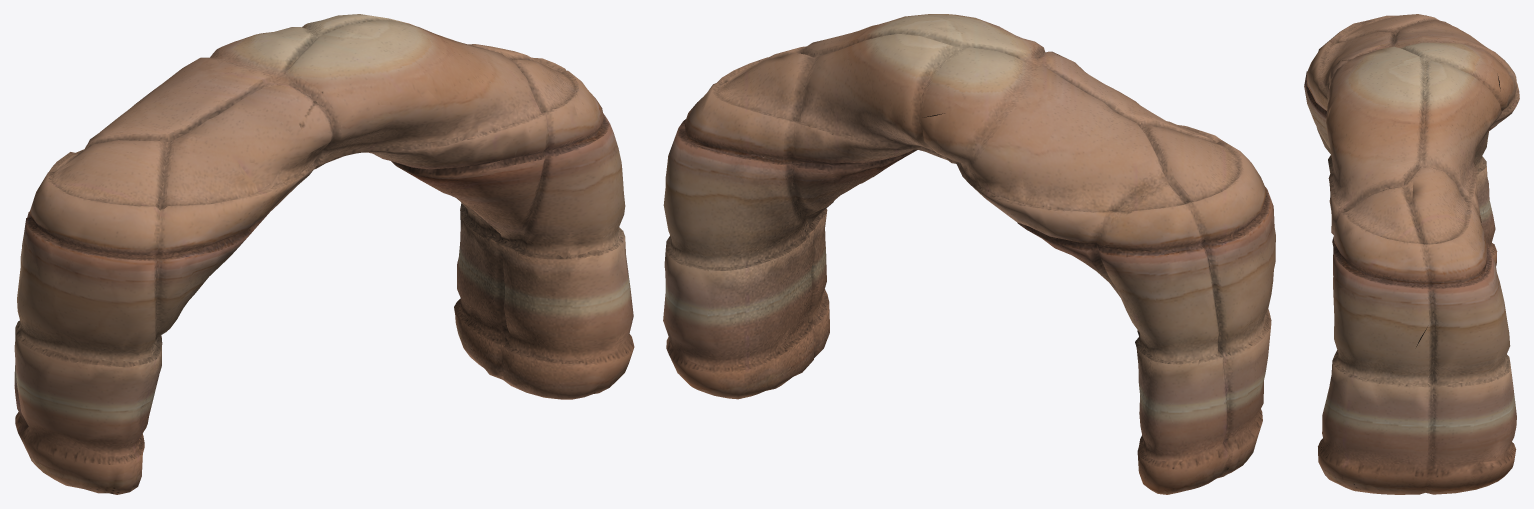
Rendered from arch.glb.
The picture shows the model from 3 angles, left to right: view 1: azimuth 30°, elevation 25°; view 2: azimuth 150°, elevation 25°; view 3: azimuth 270°, elevation 25°; orthographic projection. The views are drawn at different scales.
Parts seen in each view (by area): view 1: arch_game; view 2: arch_game; view 3: arch_game.
Boxes of the visible parts, left/top/right/bottom form: arch_game: left=14, top=14, right=634, bottom=494; arch_game: left=663, top=14, right=1275, bottom=494; arch_game: left=1304, top=14, right=1519, bottom=494.
Bounding box in the file's own units: 14 × 8.99 × 5.17.
Materials: 1 (1 with a texture image).
